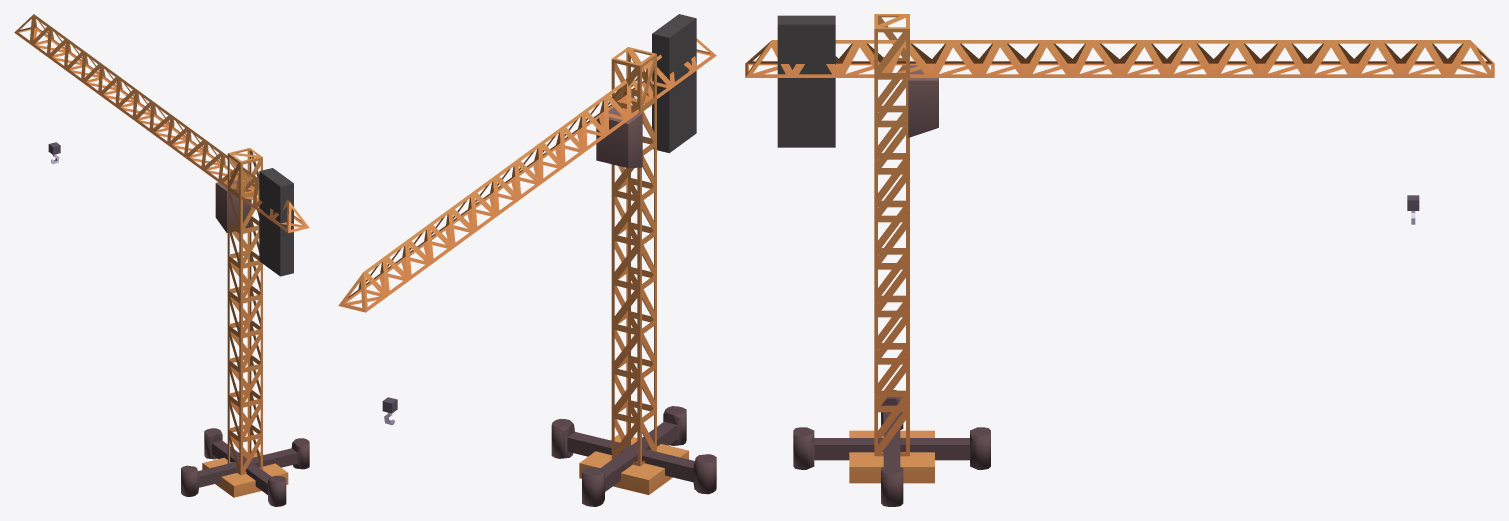
Rendered from crane.glb.
3 views of the same model, side by side, from view 1: azimuth 30°, elevation 25°; view 2: azimuth 150°, elevation 25°; view 3: azimuth 270°, elevation 25° (orthographic). The views are drawn at different scales.
Parts seen in each view (by area): view 1: Trunk, Arm, Foot, Weight, Cabin; view 2: Trunk, Arm, Foot, Weight, Cabin; view 3: Arm, Trunk, Foot, Weight, Cabin.
Part boxes in pixels (<box>): Trunk: <box>227,148,262,475</box>; Arm: <box>14,14,309,233</box>; Foot: <box>181,428,309,506</box>; Weight: <box>259,168,293,276</box>; Cabin: <box>215,180,251,232</box>; Trunk: <box>611,47,656,466</box>; Arm: <box>338,38,716,312</box>; Foot: <box>551,406,716,506</box>; Weight: <box>652,14,696,153</box>; Cabin: <box>596,107,642,168</box>; Arm: <box>745,40,1494,77</box>; Trunk: <box>874,14,909,456</box>; Foot: <box>793,390,990,506</box>; Weight: <box>777,15,835,147</box>; Cabin: <box>908,65,938,137</box>.
Size of the model in its own units: 1.85 by 4.58 by 6.99.
Materials: 1 (1 with a texture image).
